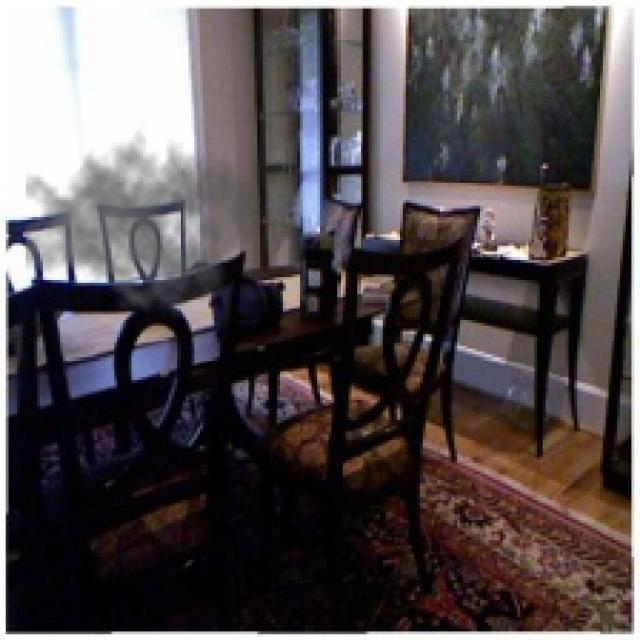smoke: (26, 120, 263, 320)
